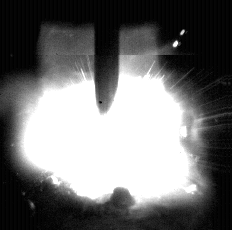arame: (95, 0, 120, 115)
poca: (22, 0, 184, 230)
